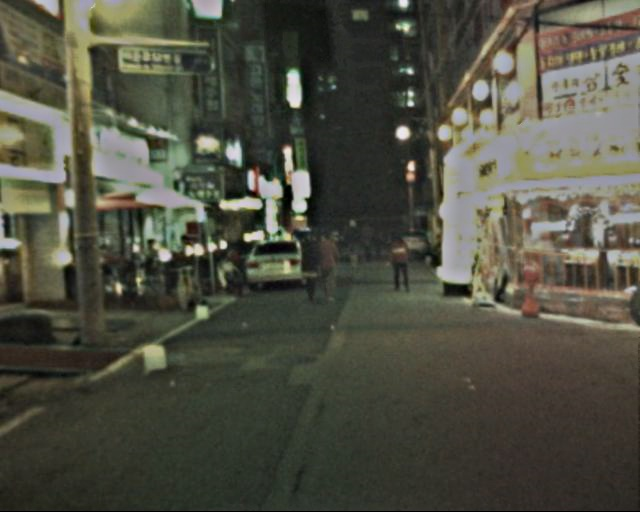person: (314, 224, 346, 306), (296, 226, 326, 306), (388, 226, 418, 296), (342, 215, 367, 272), (362, 226, 388, 265)
